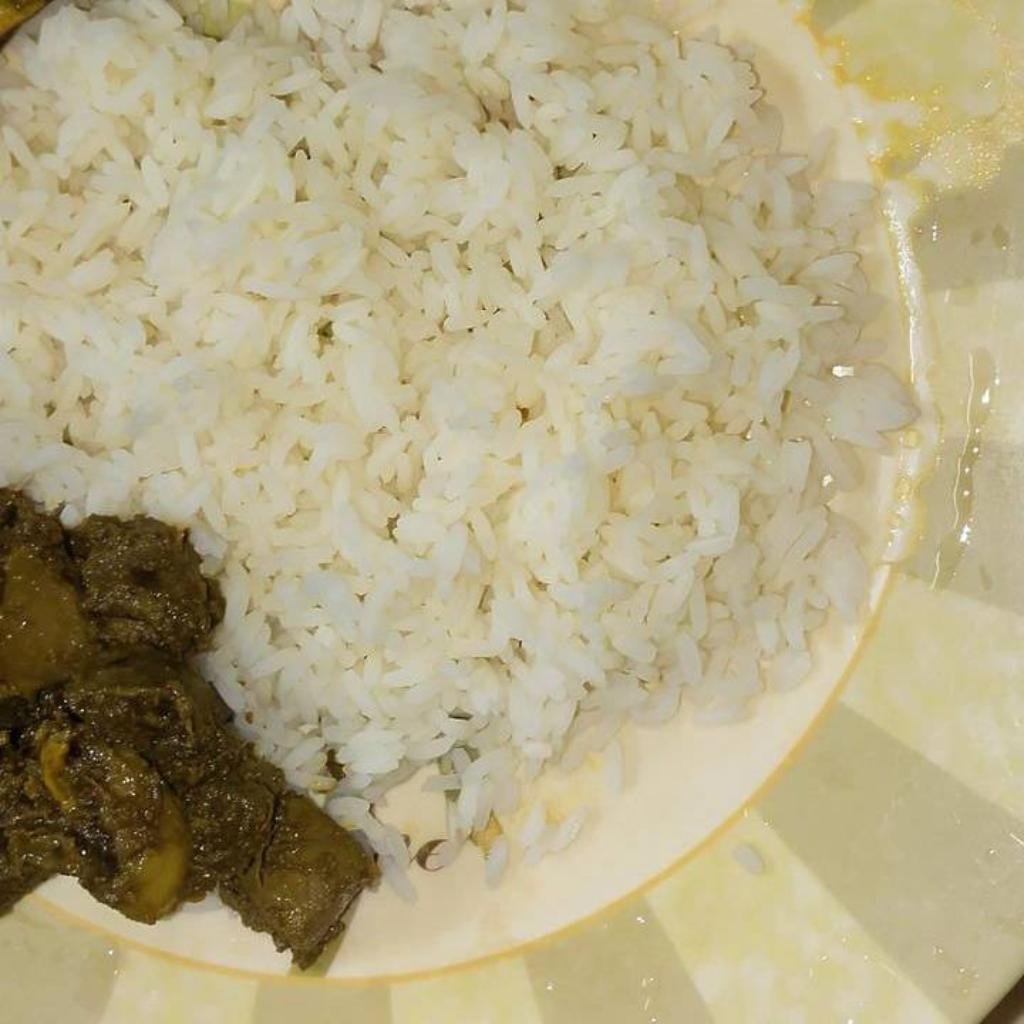beef: (0, 488, 377, 966)
rice: (0, 0, 912, 897)
